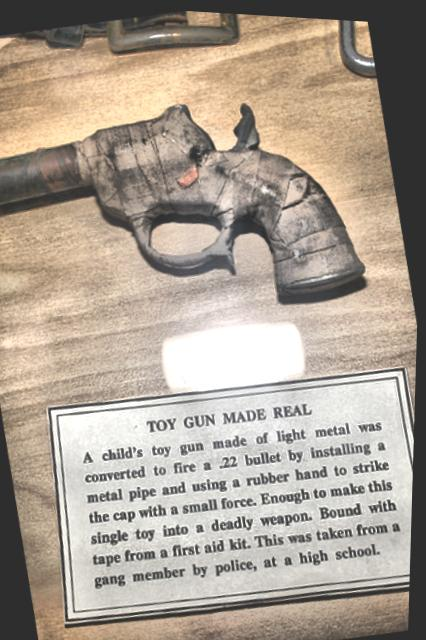pistol: (0, 54, 377, 360)
